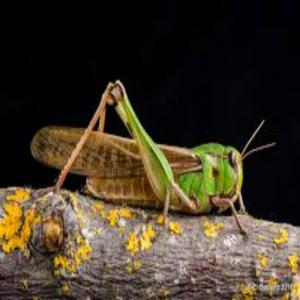locust: (30, 104, 267, 212)
